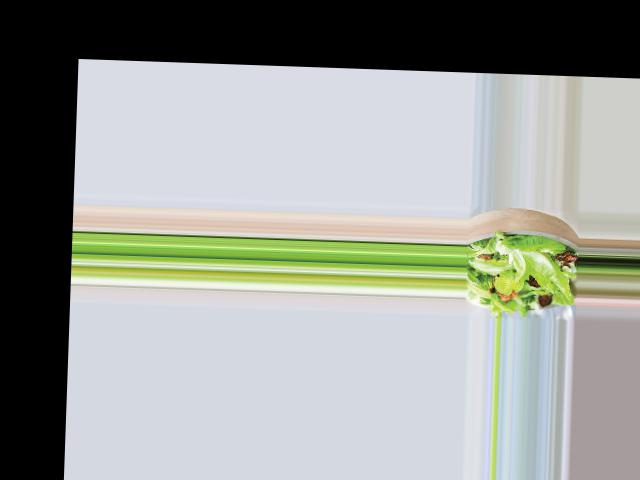lettuce: (471, 232, 568, 313)
